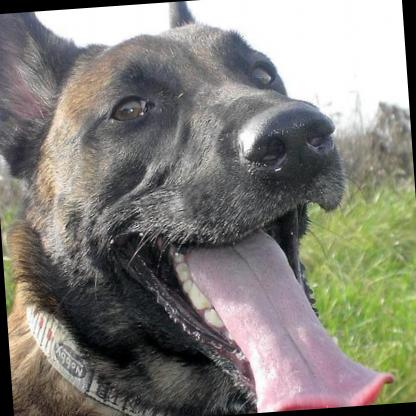malinois: (0, 0, 396, 416)
